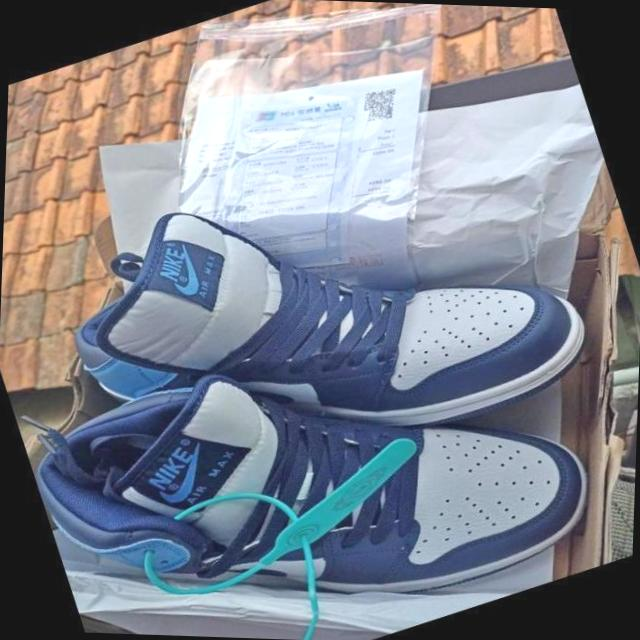nike_fake_jordan: (32, 84, 610, 544), (14, 253, 619, 640)
